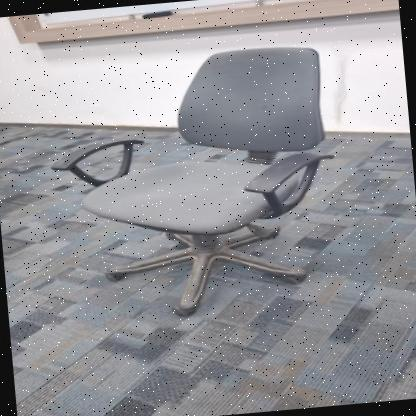chair: (38, 37, 353, 328)
